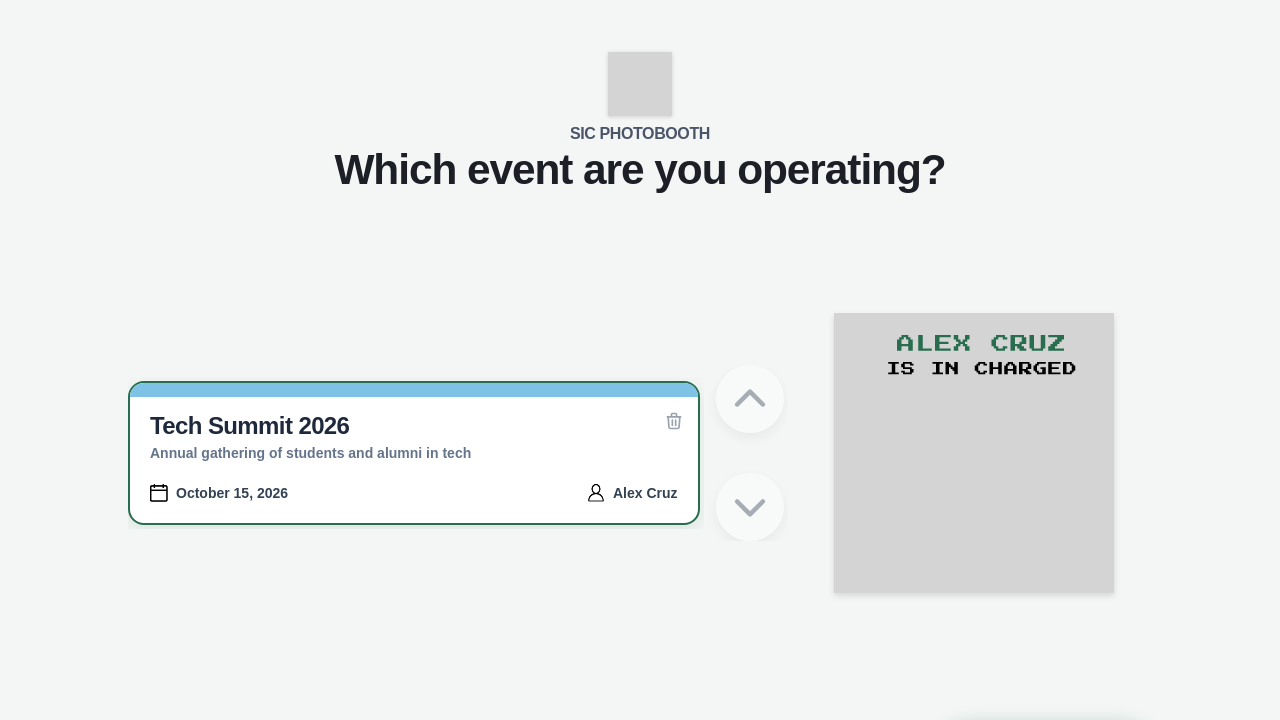
Scenario: EventSelectScreen › opens delete confirmation modal and confirms deletion
Expected: the heading "Tech Summit 2026" is shown, [150,412,349,438]
Note: Click delete button
Click the button named "delete event tech summit 2026": [674, 420] box [660,406,688,434]
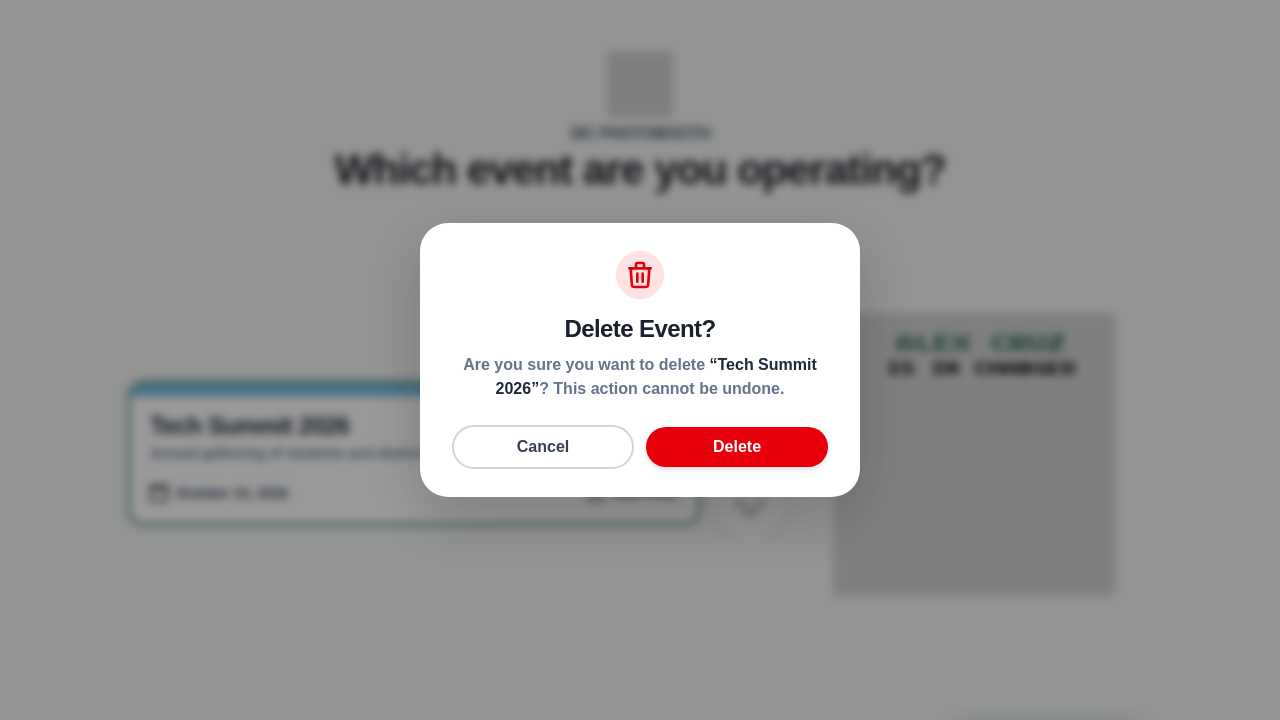
Note: Confirm delete in modal
Click the button "Delete": [737, 447] box [646,427,828,467]
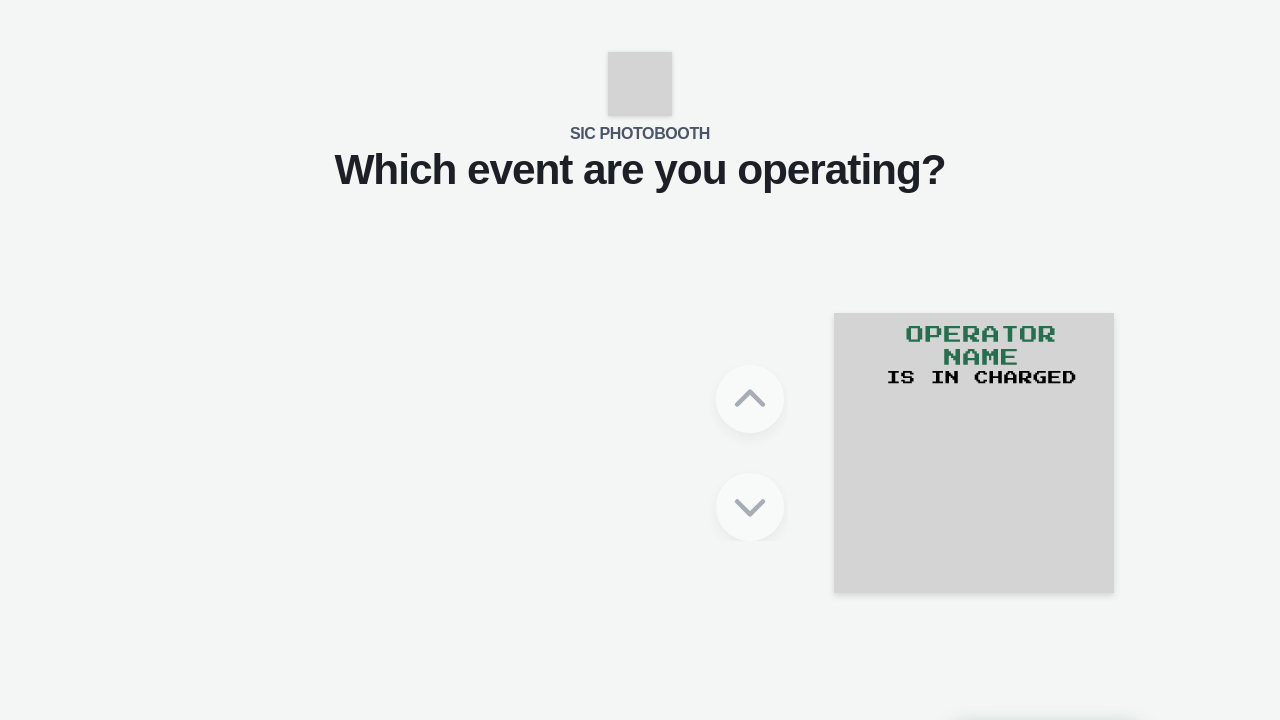
Expected: the button "Tech Summit 2026" is gone
